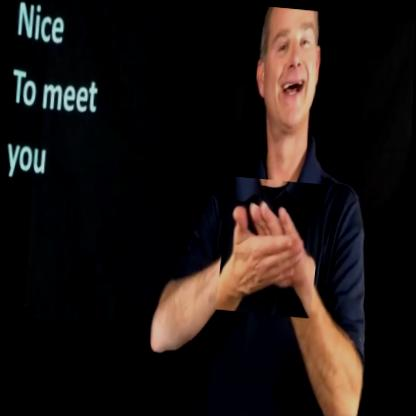NiceToMeetYou: (217, 176, 326, 318)
